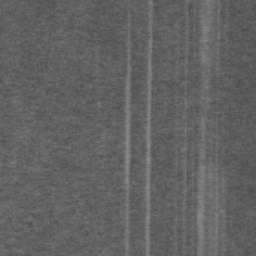Bright scratch: (146, 0, 153, 256), (125, 13, 132, 256)
